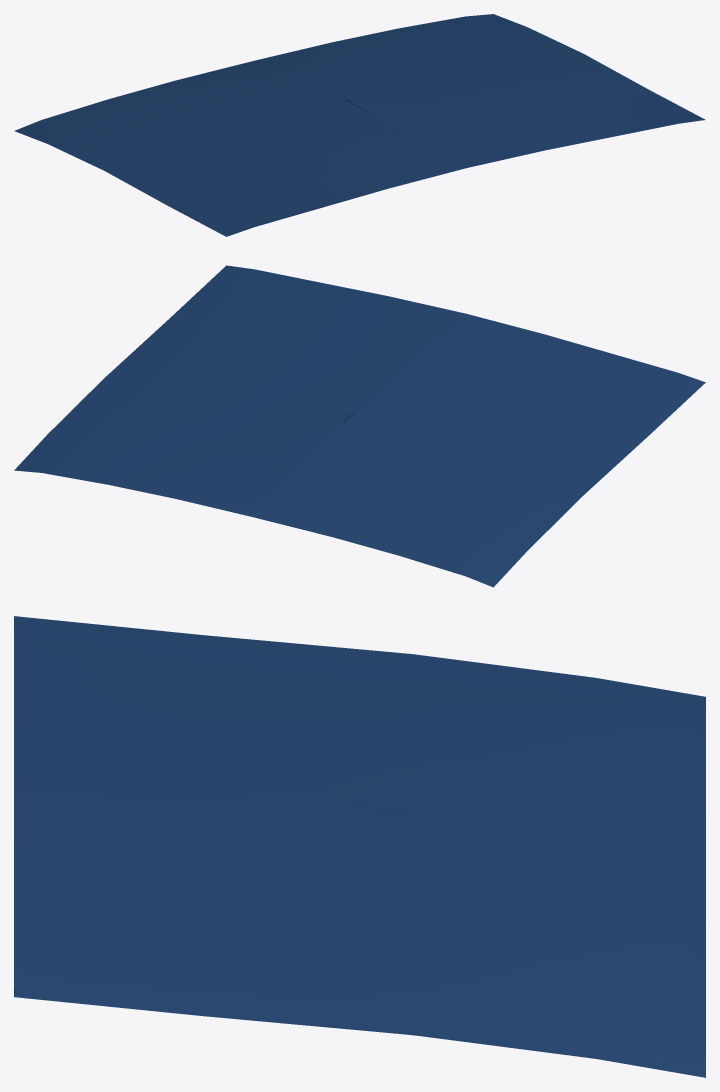
File: GEO_Hood.glb
3 views of the same model, one above another, from view 1: azimuth 30°, elevation 25°; view 2: azimuth 150°, elevation 25°; view 3: azimuth 270°, elevation 25° (orthographic). The views are drawn at different scales.
Visible parts, largest first — view 1: GEO_Hood; view 2: GEO_Hood; view 3: GEO_Hood.
Part boxes in pixels (left/top/right/bottom): GEO_Hood: left=14, top=14, right=705, bottom=236; GEO_Hood: left=14, top=265, right=705, bottom=587; GEO_Hood: left=14, top=616, right=705, bottom=1077.
Bounding box in the file's own units: 1.72 × 0.205 × 1.32.
